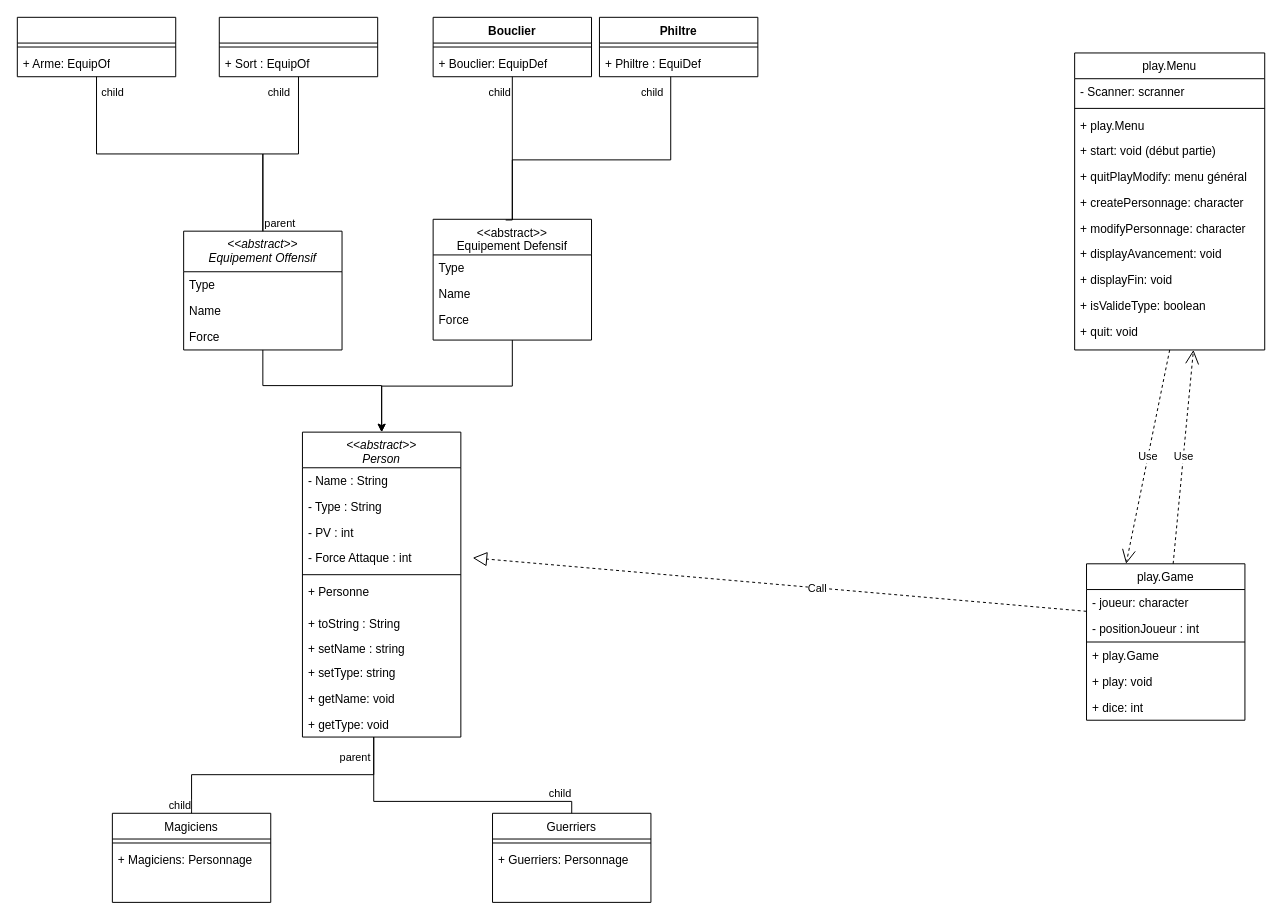
Image size: 1282x920. Some labels were removed from this diagram. Each missing label, with the box of its shape:
Arme: (218, 16, 378, 77)
Sort: (16, 16, 176, 77)
